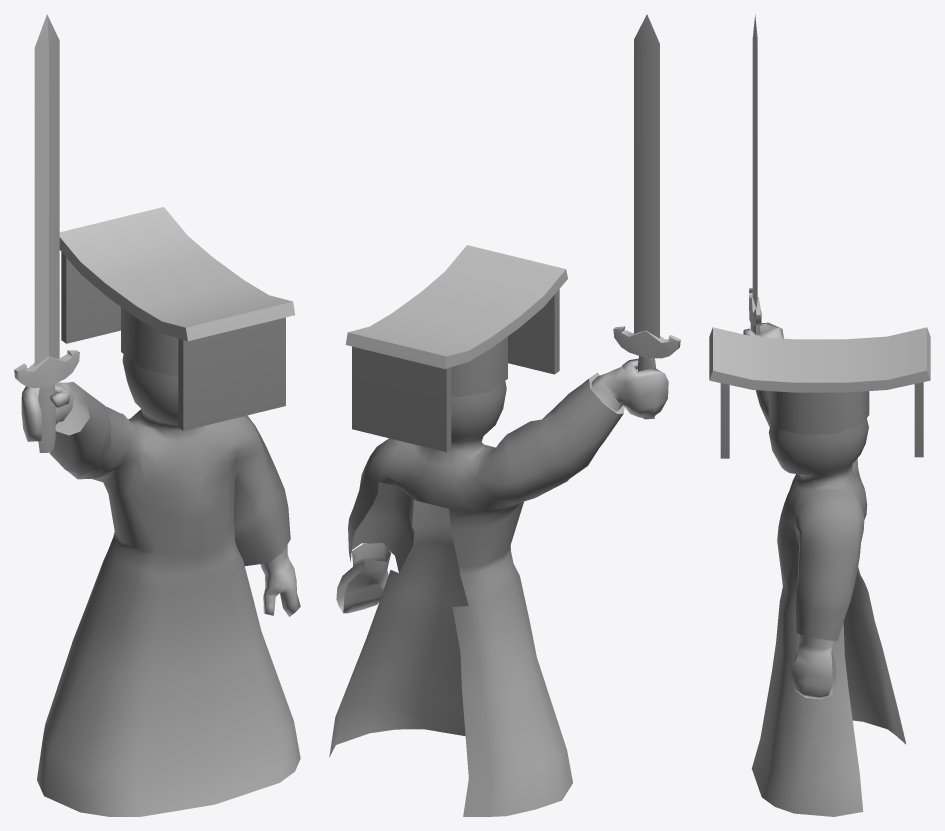
The model's file is statue_stone.fbx.
3 renders of one model, left to right at view 1: azimuth 30°, elevation 25°; view 2: azimuth 150°, elevation 25°; view 3: azimuth 270°, elevation 25°, orthographic. The views are drawn at different scales.
Visible parts, largest first — view 1: statue_stone; view 2: statue_stone; view 3: statue_stone.
Part boxes in pixels (x1=…): statue_stone: x1=14, y1=14, x2=300, y2=816; statue_stone: x1=329, y1=14, x2=680, y2=816; statue_stone: x1=709, y1=14, x2=930, y2=816.
Bounding box in the file's own units: 1.72 × 4.22 × 1.23.
Materials: 1 (1 with a texture image).
